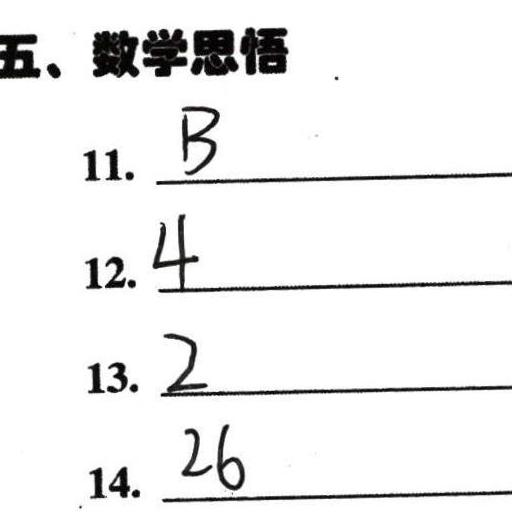ans: (173, 416, 247, 491), (149, 212, 200, 291), (156, 325, 209, 394), (176, 102, 221, 177)
